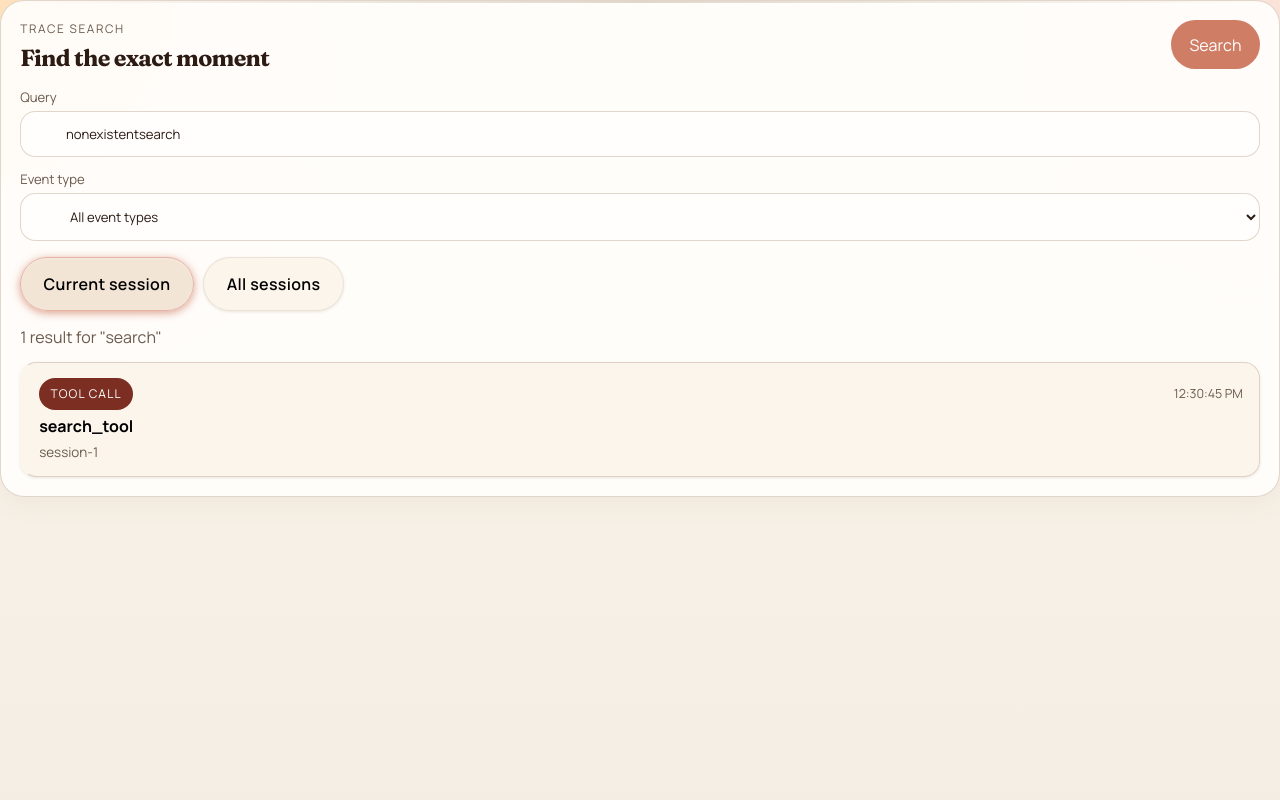
Test: SearchPanel › shows multiple search results
Type "test" into the field with placeholder "Belgrade, missing token, critic turn...".
click(640, 134); type("test")  # box [20,111,1260,157]
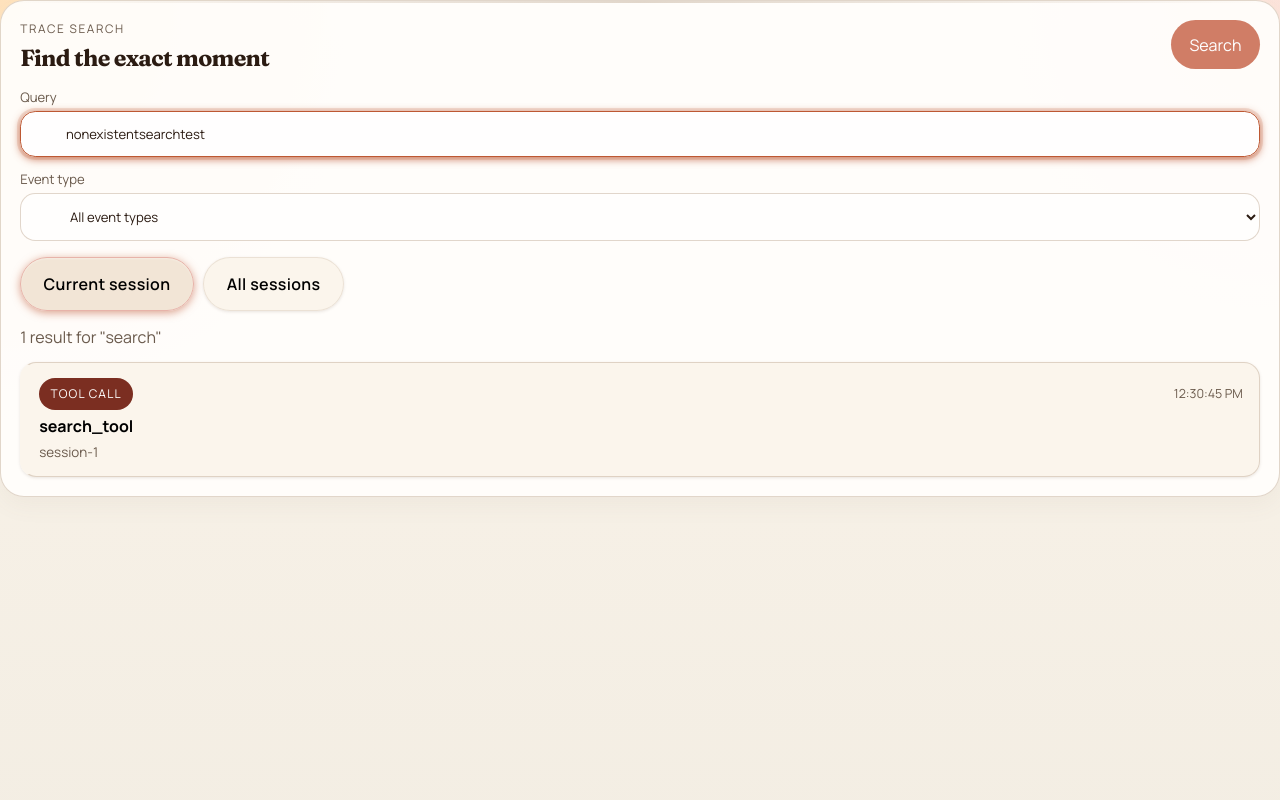
Click the button "Search".
click(1215, 45)  # box [1171,20,1260,69]
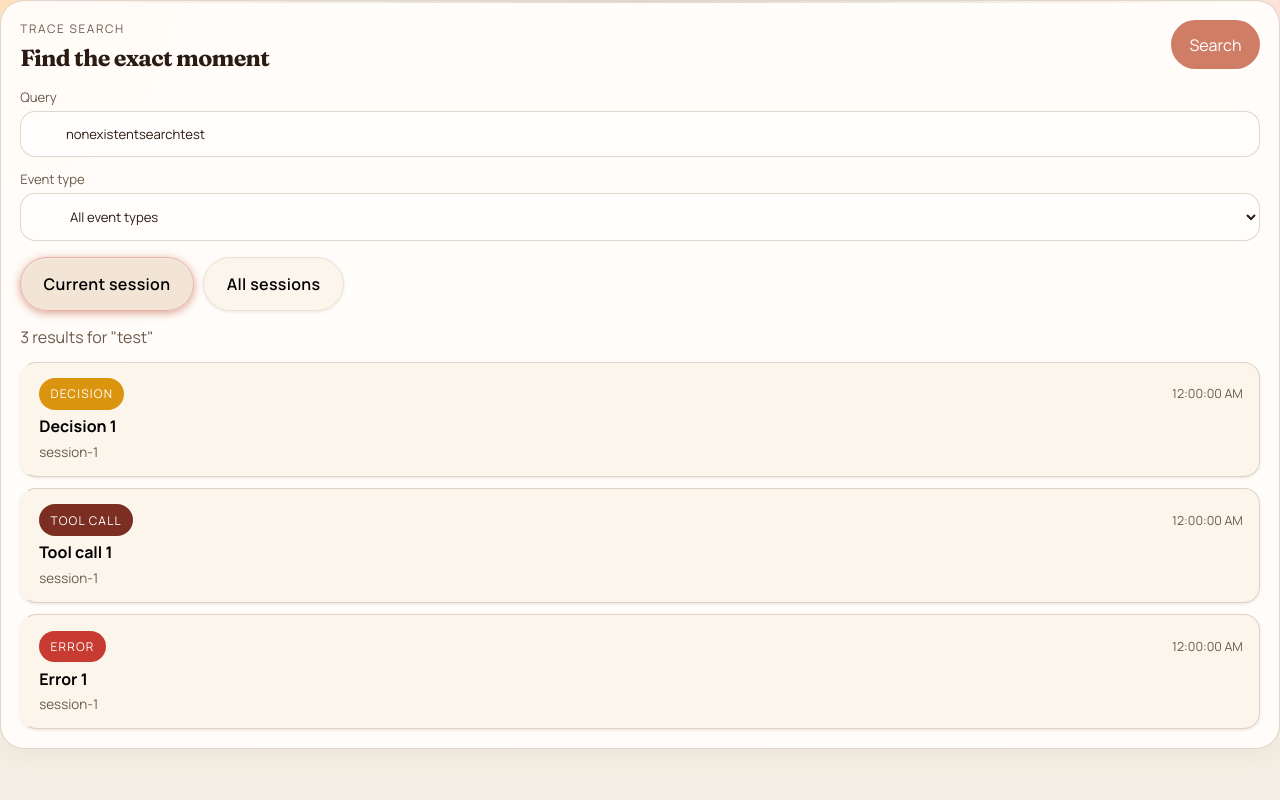
Expected: the text "3 results for \"test\"" is shown, [20,326,154,348]
